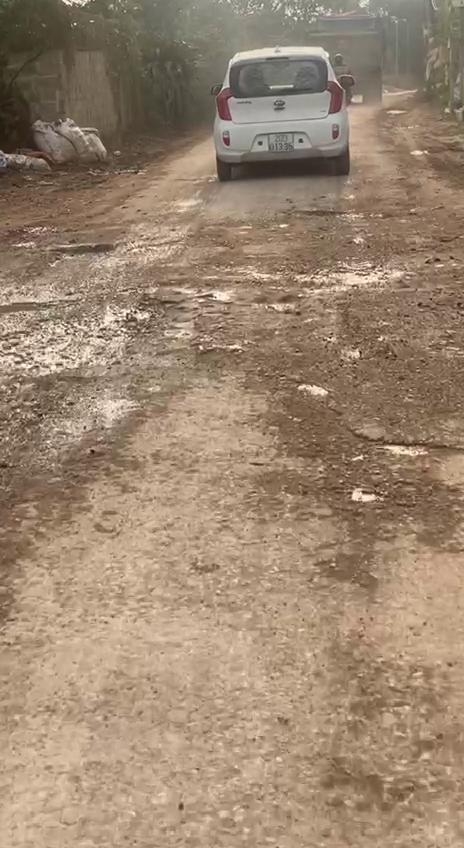pothole: (0, 274, 230, 393), (230, 254, 432, 288)
